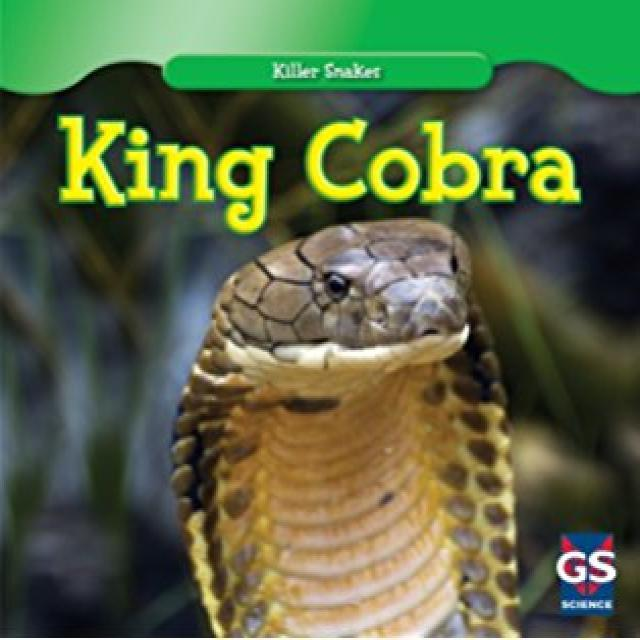Snake: (167, 214, 524, 638)
